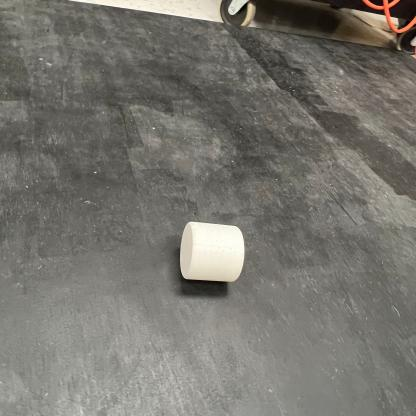white cylinder: (179, 220, 246, 284)
